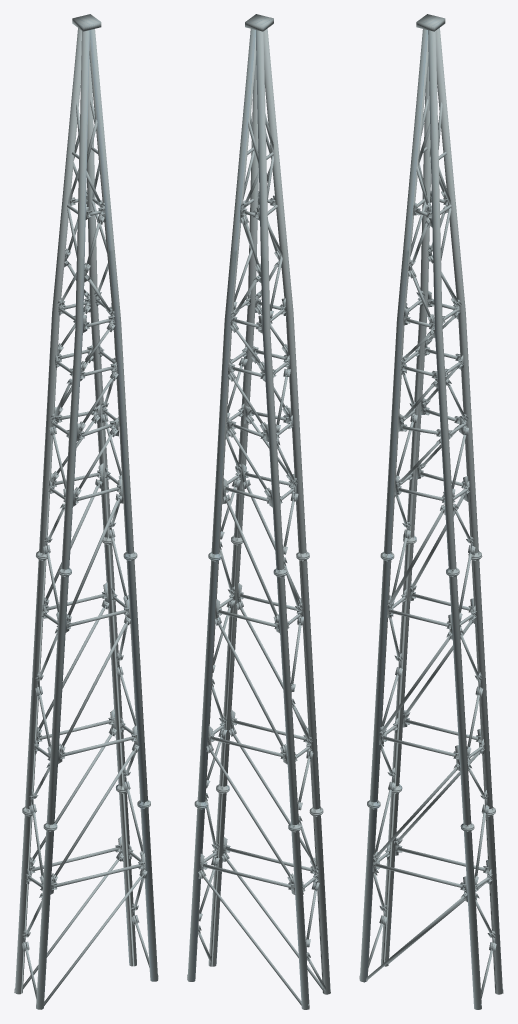
File: 营区杆塔.FBX
3 views of the same model, side by side, from view 1: azimuth 30°, elevation 25°; view 2: azimuth 150°, elevation 25°; view 3: azimuth 330°, elevation 25° (orthographic).
Visible parts, largest first — view 1: 对象19641; view 2: 对象19641; view 3: 对象19641.
Boxes of the visible parts, box(x1,y1,x2,y2) form: 对象19641: box(14, 14, 158, 1009); 对象19641: box(187, 14, 330, 1009); 对象19641: box(359, 14, 503, 1009).
Size of the model in its own units: 16.76 by 127 by 6.96.
Materials: 1 (1 with a texture image).
